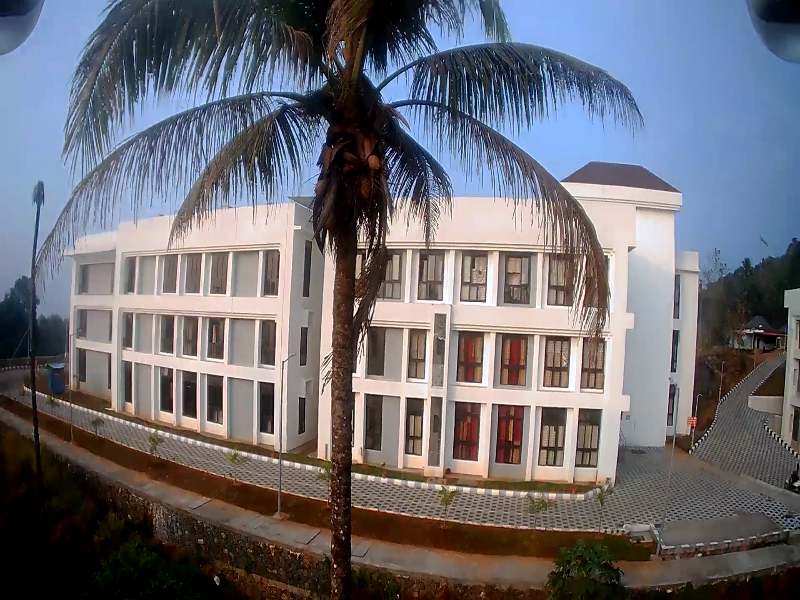coconut: (366, 152, 380, 170)
